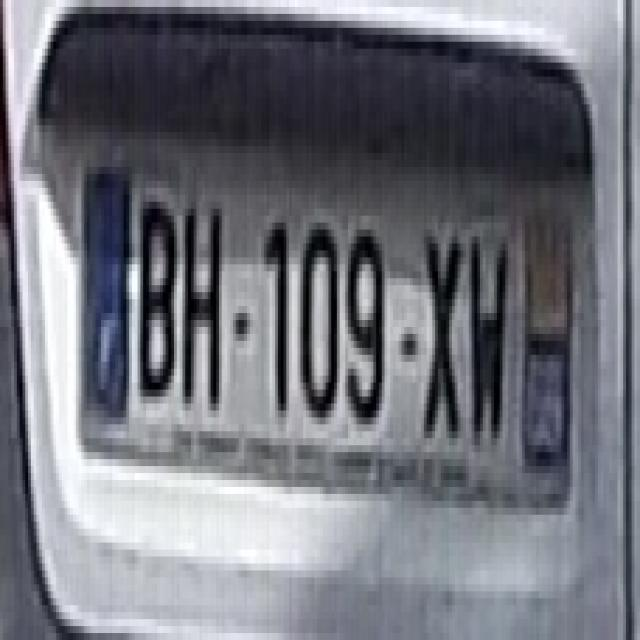EU: (78, 140, 567, 510)
France: (82, 163, 130, 436)
